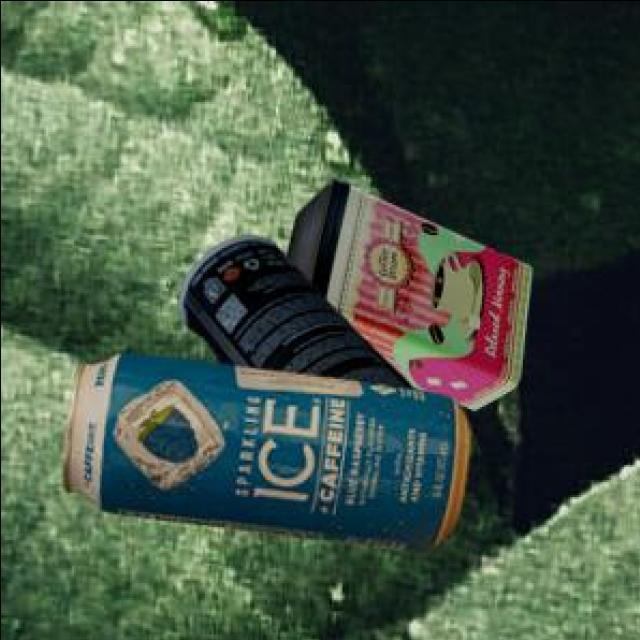logam: (59, 349, 465, 549), (282, 175, 527, 405), (175, 233, 408, 386)
